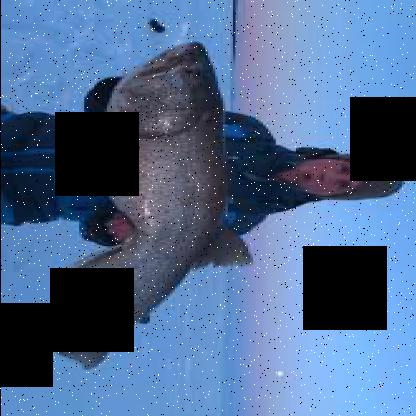fish: (8, 40, 262, 366)
